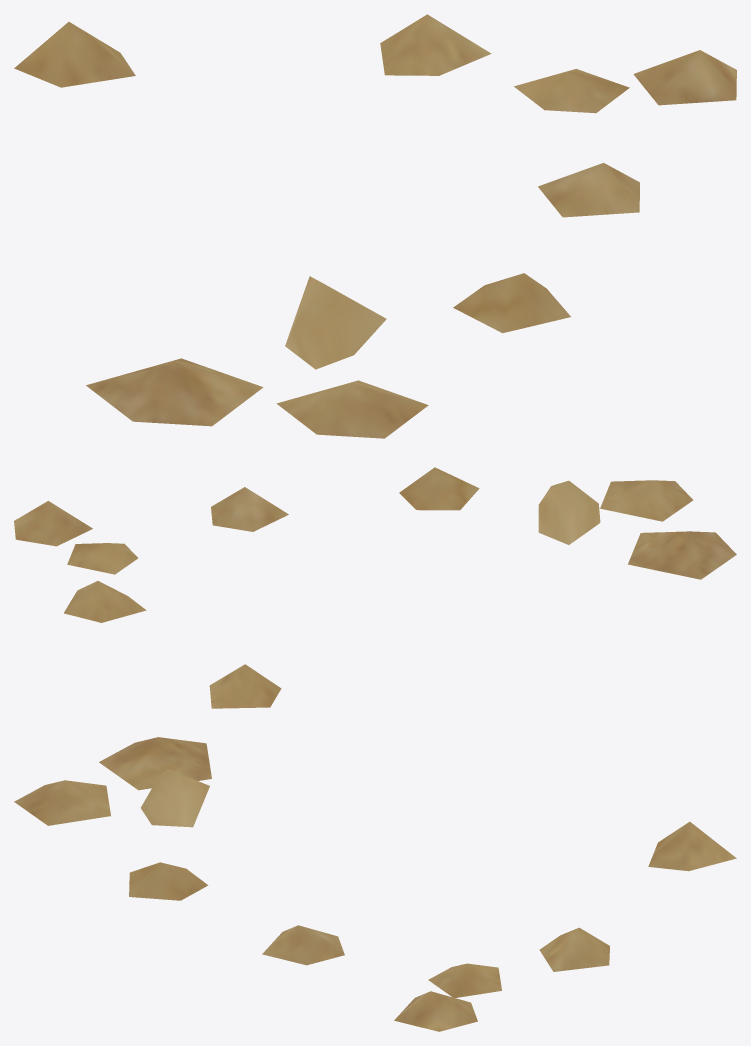
The model's file is rock_dfield2.glb.
The picture shows the model from 3 angles, top to bottom: view 1: azimuth 30°, elevation 25°; view 2: azimuth 150°, elevation 25°; view 3: azimuth 270°, elevation 25°; orthographic projection. The views are drawn at different scales.
Parts seen in each view (by area): view 1: Rock_GField1; view 2: Rock_GField1; view 3: Rock_GField1.
Part boxes in pixels (<box>): Rock_GField1: <box>14,14,736,438</box>; Rock_GField1: <box>14,467,736,708</box>; Rock_GField1: <box>14,737,736,1031</box>.
Bounding box in the file's own units: 20.6 × 1.74 × 21.68.
Materials: 1 (1 with a texture image).
